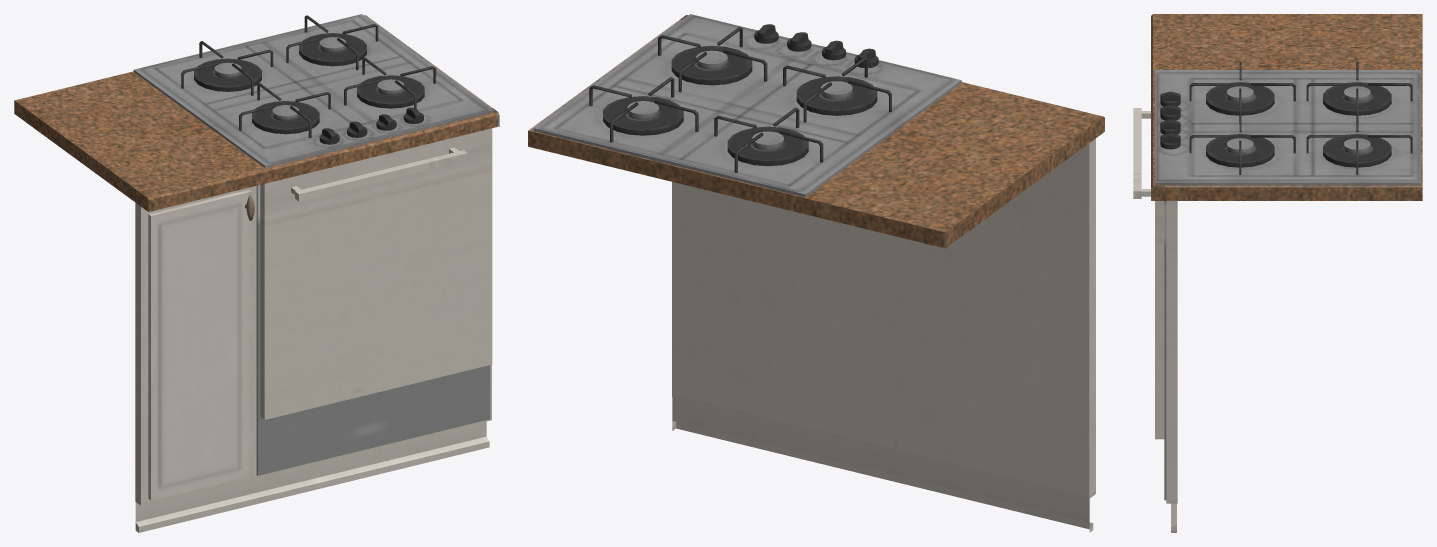
Rendered from KitCabinet_Lo_1x_Stove.FBX.
3 renders of one model, left to right at view 1: azimuth 30°, elevation 25°; view 2: azimuth 150°, elevation 25°; view 3: azimuth 270°, elevation 25°, orthographic. The views are drawn at different scales.
Visible parts, largest first — view 1: KitCabinet_Lo_1x_Stove; view 2: KitCabinet_Lo_1x_Stove; view 3: KitCabinet_Lo_1x_Stove.
Boxes of the visible parts, bbox=[...] form: KitCabinet_Lo_1x_Stove: bbox=[14, 14, 499, 532]; KitCabinet_Lo_1x_Stove: bbox=[528, 14, 1104, 532]; KitCabinet_Lo_1x_Stove: bbox=[1133, 14, 1422, 532].
Size of the model in its own units: 100 by 98.34 by 70.51.
